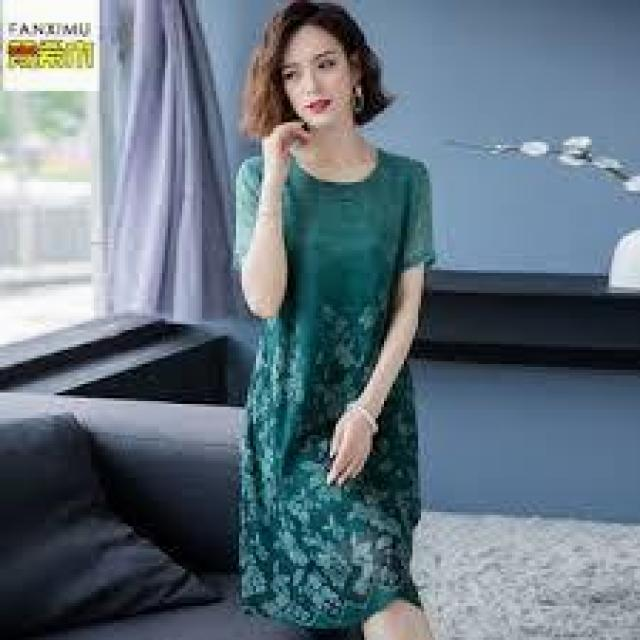dress: (237, 149, 433, 633)
